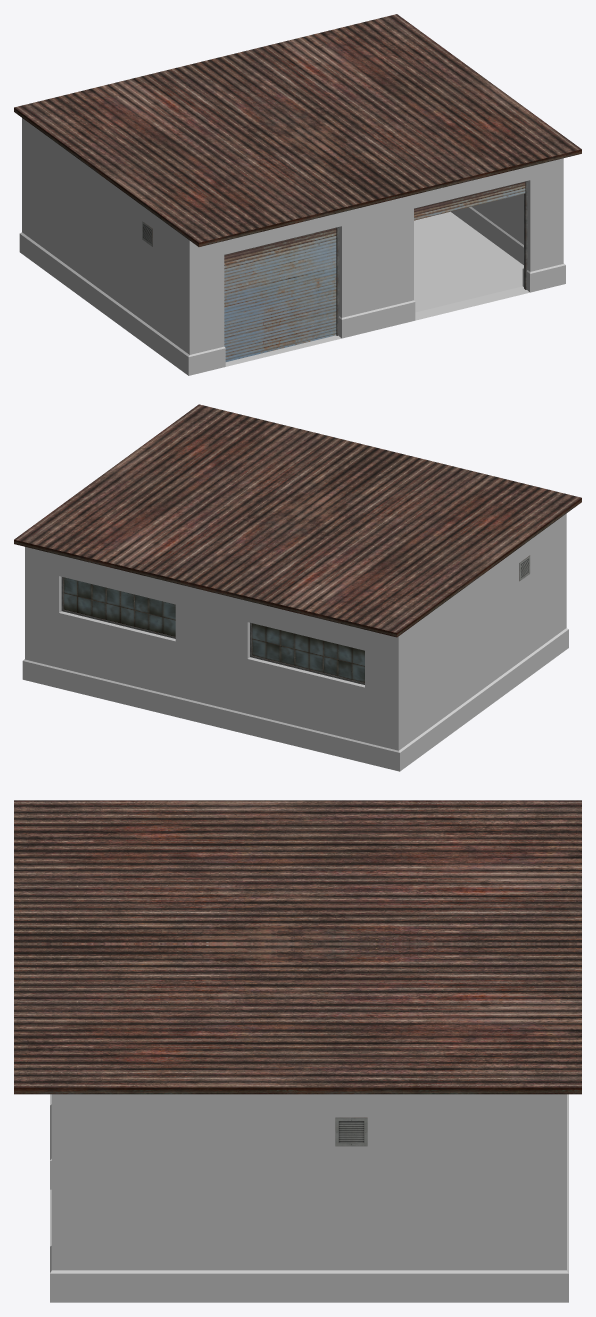
Rendered from Car_garage.fbx.
The picture shows the model from 3 angles, top to bottom: view 1: azimuth 30°, elevation 25°; view 2: azimuth 150°, elevation 25°; view 3: azimuth 270°, elevation 25°; orthographic projection. The views are drawn at different scales.
Visible parts, largest first — view 1: garage_walls, clossed_door, opened_door; view 2: garage_walls, window_1, window_2; view 3: garage_walls, vent_2.
Part boxes in pixels (x1,y1,x2,y2): garage_walls: (14, 14, 581, 375); clossed_door: (224, 228, 336, 361); opened_door: (414, 182, 525, 220); garage_walls: (14, 404, 581, 771); window_1: (250, 622, 364, 684); window_2: (61, 577, 175, 638); garage_walls: (14, 800, 581, 1302); vent_2: (335, 1117, 367, 1146).
Size of the model in its own units: 1087 by 385 by 909.
